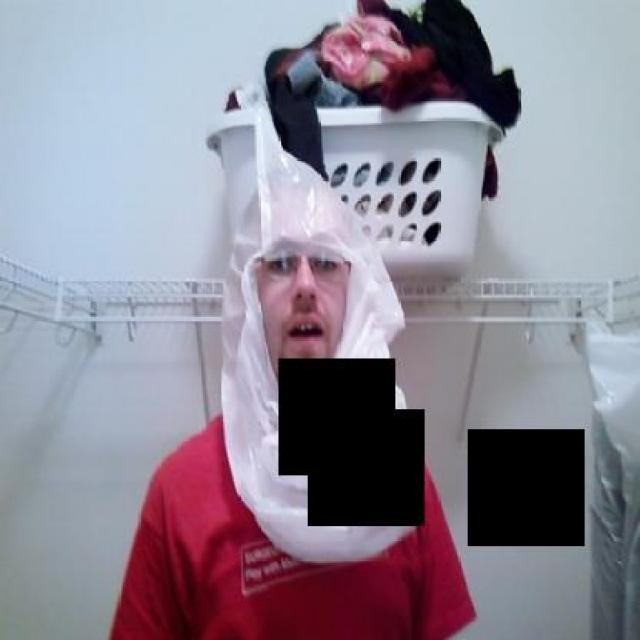plastic bag: (217, 83, 421, 559)
